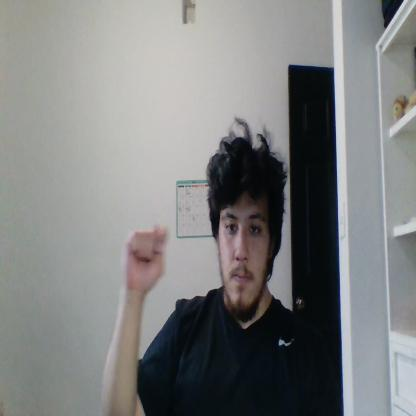T: (121, 223, 168, 293)
